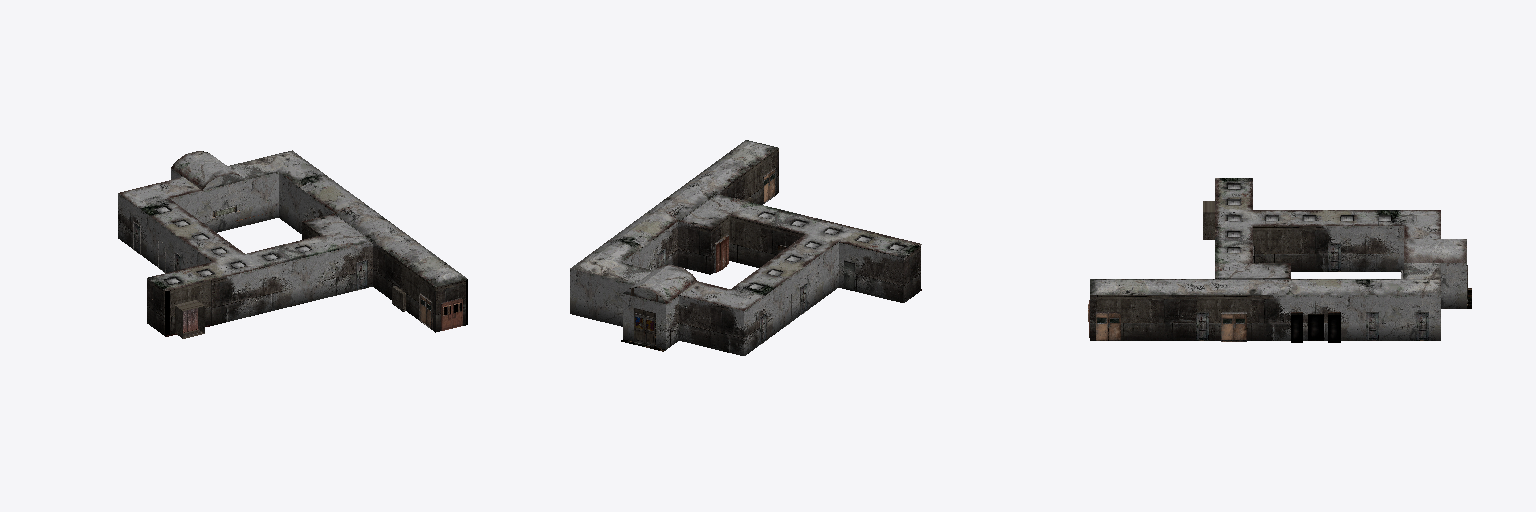
The picture shows the model from 3 angles: view 1: azimuth 30°, elevation 25°; view 2: azimuth 150°, elevation 25°; view 3: azimuth 270°, elevation 25°; orthographic projection.
Parts seen in each view (by area): view 1: gr_4, gr_9, gr_8, gr_5, gr_7, gr_10, gr_6, gr_0; view 2: gr_9, gr_4, gr_8, gr_5, gr_7, gr_11; view 3: gr_7, gr_4, gr_9, gr_5, gr_8, gr_0, gr_11.
Part boxes in pixels (bbox=[...]): gr_4: bbox=[119, 150, 466, 286]; gr_9: bbox=[118, 168, 384, 326]; gr_8: bbox=[156, 172, 296, 272]; gr_5: bbox=[138, 199, 409, 313]; gr_7: bbox=[153, 222, 465, 338]; gr_10: bbox=[133, 206, 462, 332]; gr_6: bbox=[165, 206, 462, 336]; gr_0: bbox=[134, 223, 366, 289]; gr_9: bbox=[641, 185, 909, 355]; gr_4: bbox=[570, 140, 777, 310]; gr_8: bbox=[570, 247, 831, 346]; gr_5: bbox=[730, 202, 921, 296]; gr_7: bbox=[700, 148, 920, 298]; gr_11: bbox=[763, 168, 854, 290]; gr_7: bbox=[1090, 201, 1340, 342]; gr_4: bbox=[1090, 210, 1466, 294]; gr_9: bbox=[1266, 226, 1403, 340]; gr_5: bbox=[1215, 178, 1403, 262]; gr_8: bbox=[1366, 263, 1467, 340]; gr_0: bbox=[1196, 244, 1428, 339]; gr_11: bbox=[1096, 313, 1323, 341].
Bounding box in the file's own units: 14.39 × 3.14 × 19.57.
Materials: 15 (13 with a texture image).